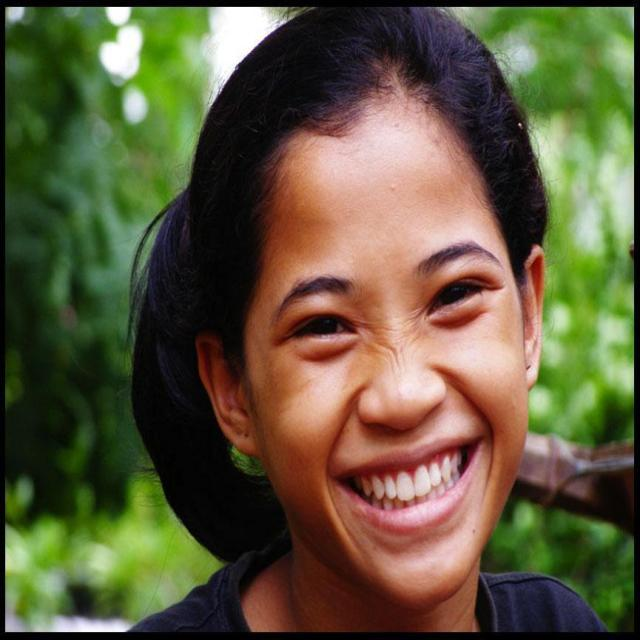no-glass: (288, 274, 496, 339)
